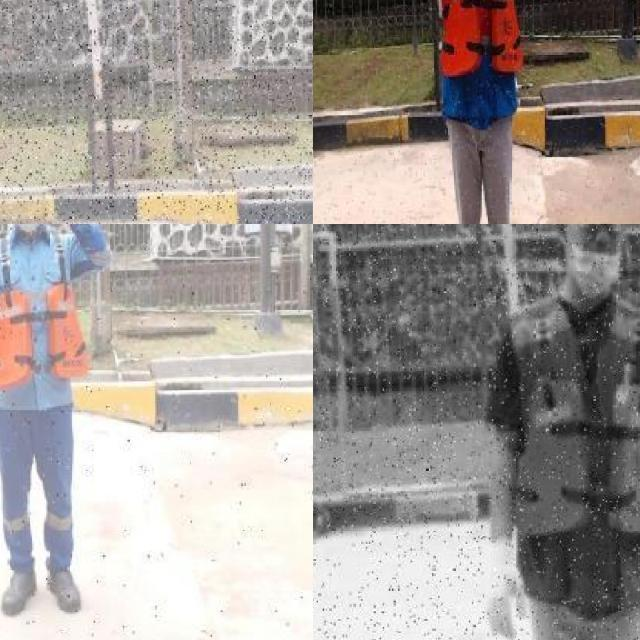apron: (485, 537, 529, 640)
